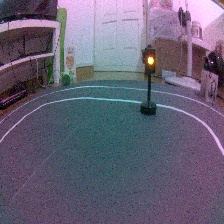amber: (139, 43, 160, 115)
